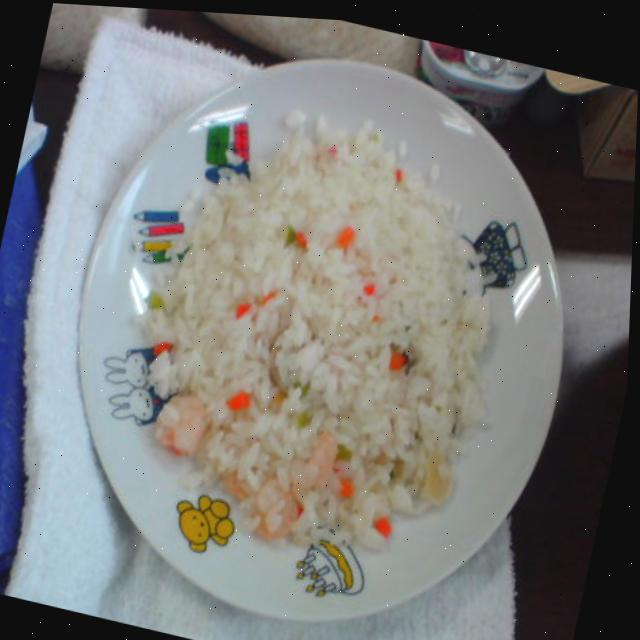米饭主食: (20, 2, 615, 639)
